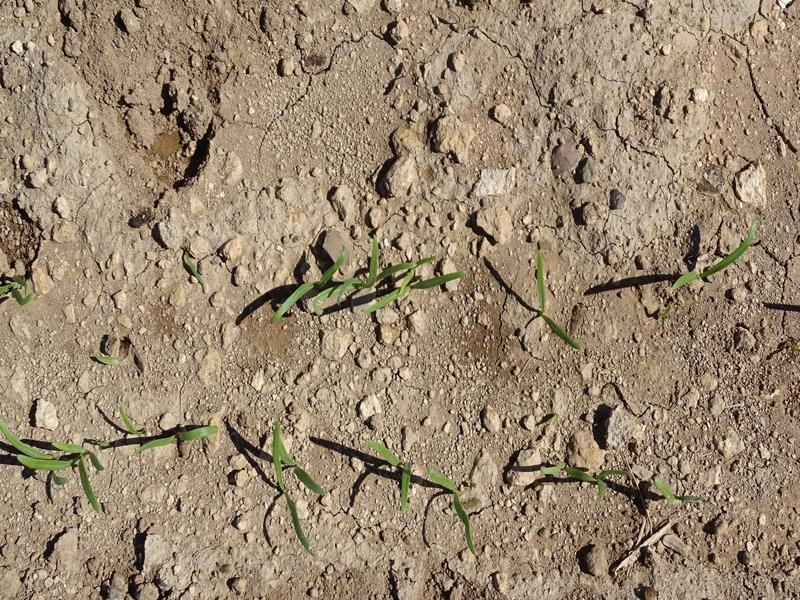Espinaca: (272, 244, 462, 315), (1, 416, 103, 506), (366, 436, 461, 514), (266, 425, 325, 550), (540, 457, 685, 503), (669, 222, 759, 294), (535, 247, 585, 352), (137, 420, 217, 449)
